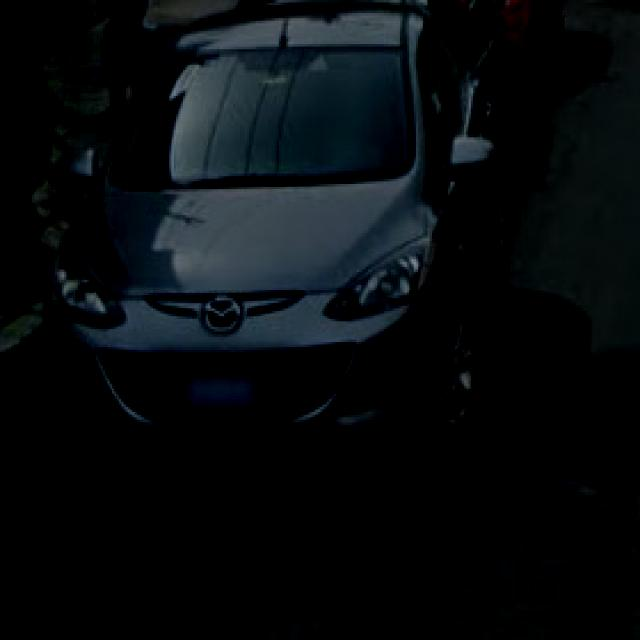car: (59, 5, 522, 489)
